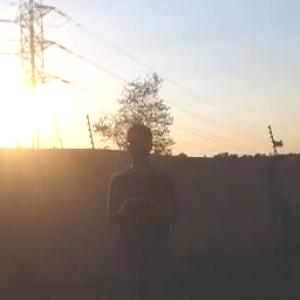follow: (103, 115, 184, 299)
